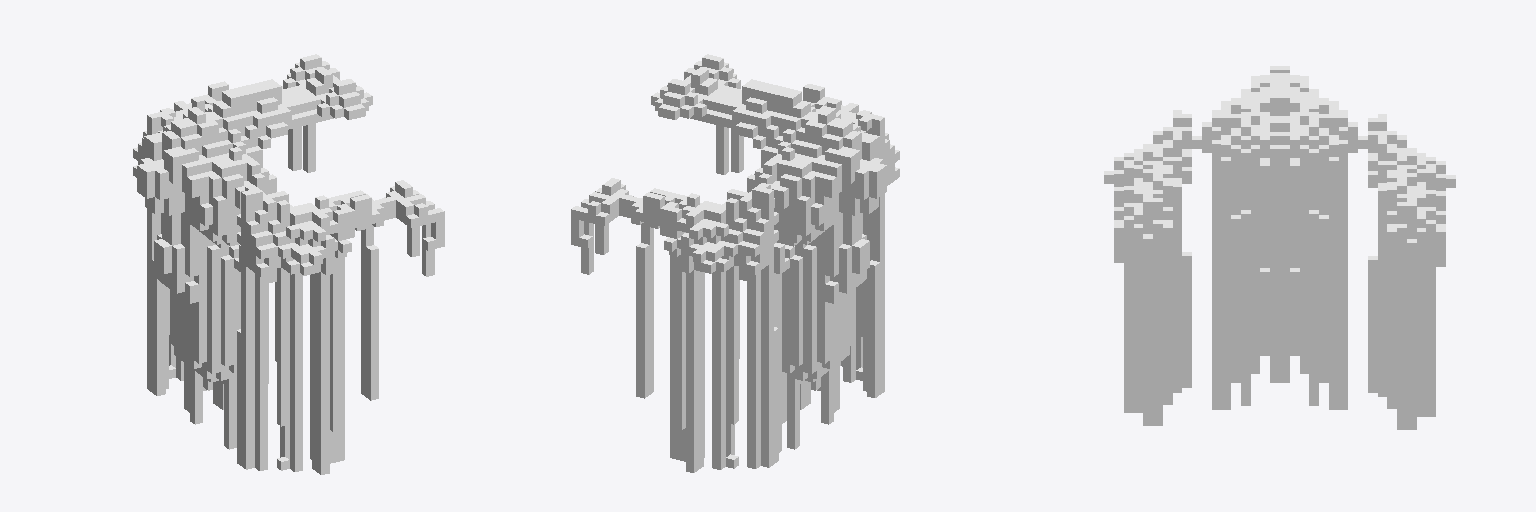
File: enemy_posed.obj
3 views of the same model, side by side, from view 1: azimuth 30°, elevation 25°; view 2: azimuth 150°, elevation 25°; view 3: azimuth 270°, elevation 25° (orthographic).
Bounding box in the file's own units: 27 × 38 × 36.